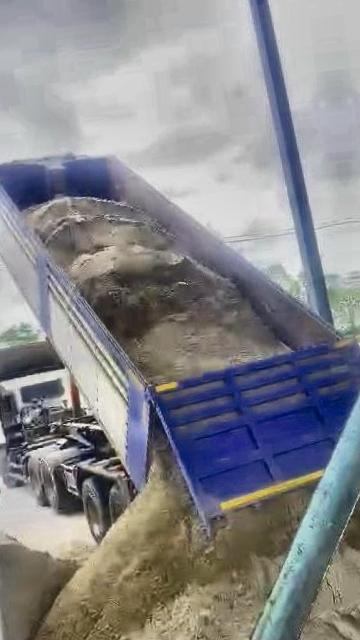sand: (26, 454, 308, 640), (26, 197, 286, 383), (281, 471, 360, 640), (0, 533, 78, 640)
